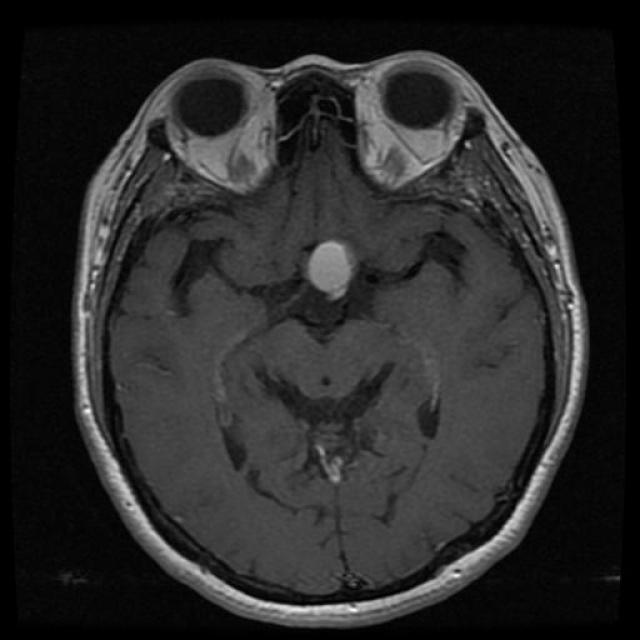Brain-Tumor: (286, 230, 374, 301)
eye: (142, 41, 300, 223), (347, 41, 478, 218)
